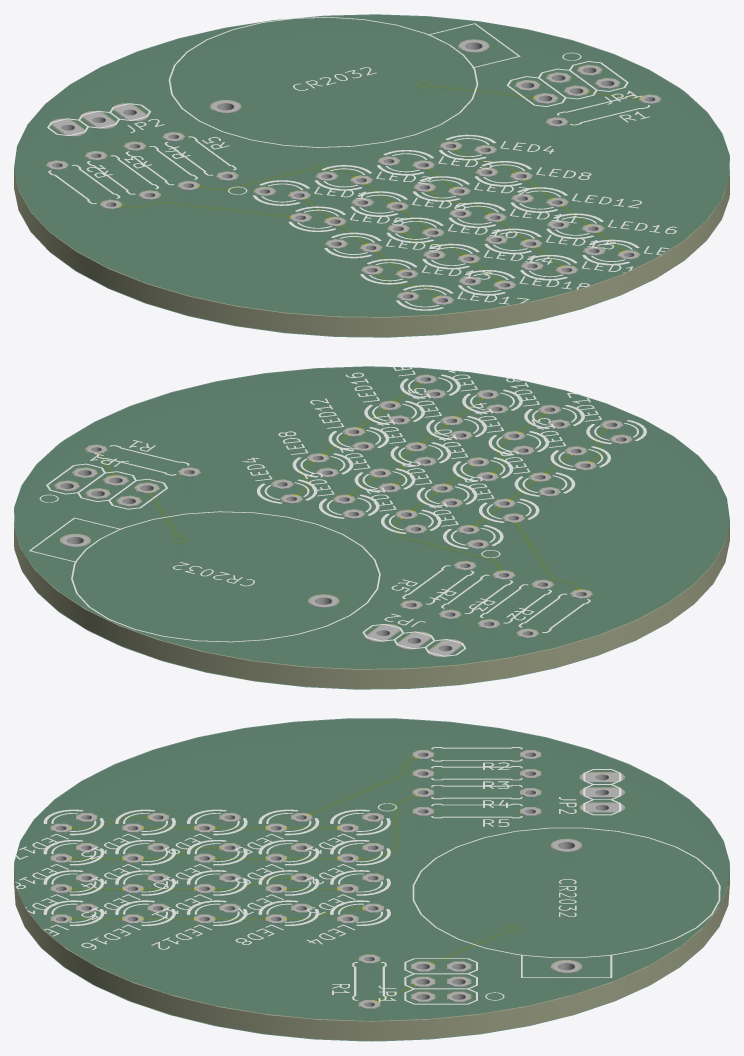
Rendered from kiwicon-intro-to-badge-hacking-training-badge-kit.glb.
3 views of the same model, one above another, from view 1: azimuth 30°, elevation 25°; view 2: azimuth 150°, elevation 25°; view 3: azimuth 270°, elevation 25° (orthographic).
Parts seen in each view (by area): view 1: =>[0:1:1:7], =>[0:1:1:9], =>[0:1:1:5], =>[0:1:1:2]; view 2: =>[0:1:1:9], =>[0:1:1:7], =>[0:1:1:5], =>[0:1:1:2]; view 3: =>[0:1:1:7], =>[0:1:1:9], =>[0:1:1:5], =>[0:1:1:2].
Boxes of the visible parts, x1,y1,x2,y2 form: =>[0:1:1:7]: (14, 14, 729, 337); =>[0:1:1:9]: (14, 15, 729, 336); =>[0:1:1:5]: (47, 17, 677, 310); =>[0:1:1:2]: (47, 40, 659, 304); =>[0:1:1:9]: (14, 367, 729, 688); =>[0:1:1:7]: (14, 366, 729, 689); =>[0:1:1:5]: (29, 367, 646, 656); =>[0:1:1:2]: (55, 375, 631, 657); =>[0:1:1:7]: (14, 718, 729, 1041); =>[0:1:1:9]: (14, 720, 729, 1040); =>[0:1:1:5]: (15, 747, 720, 1004); =>[0:1:1:2]: (52, 750, 623, 1008).
Size of the model in its own units: 0.0507 by 0.00166 by 0.0508.
Materials: 4 (4 with a texture image).
